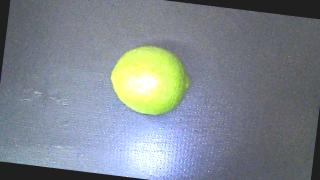EXPORTACION: (106, 42, 193, 119)
